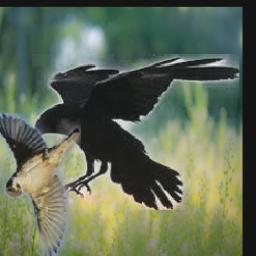Crow: (28, 55, 240, 211)
Sparrow: (0, 113, 82, 256)
